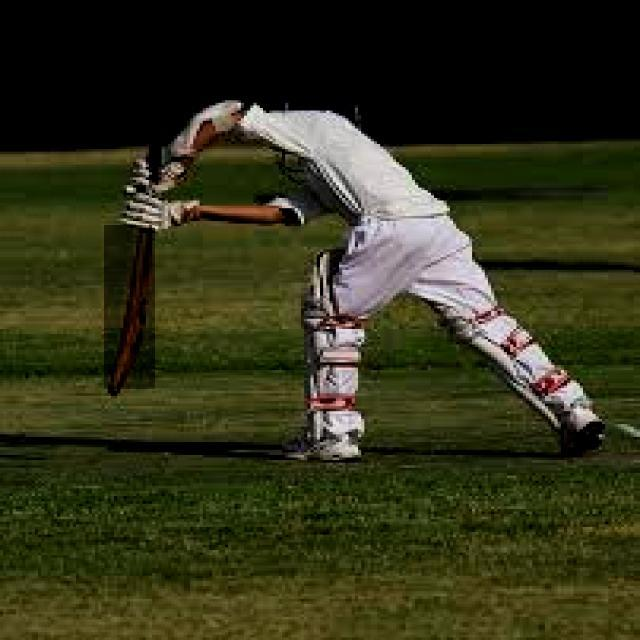bat: (100, 228, 150, 395)
toe: (89, 380, 133, 401)
